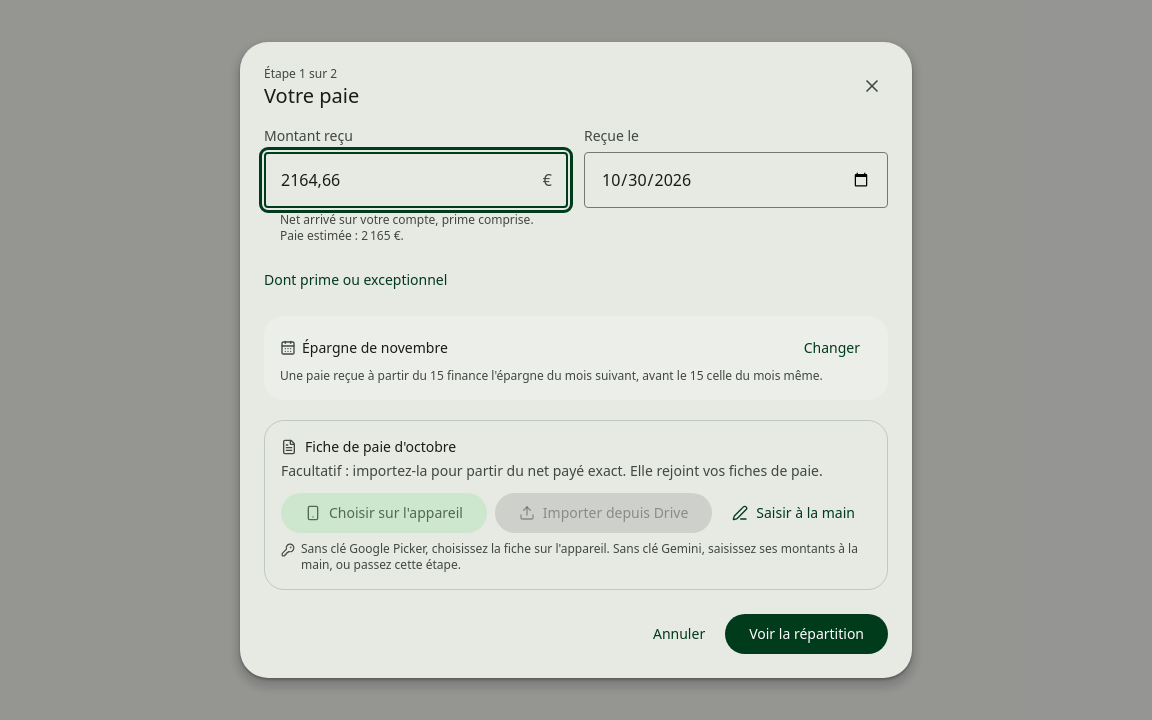
Test case: Rituel « J’ai reçu ma paie » : votre paie › montant illisible ou prime plus grande que la paie : on ne passe pas à la répartition
Replace the text in the field labelled "Montant reçu" with "12a" at (416, 180), box [264, 152, 568, 208]
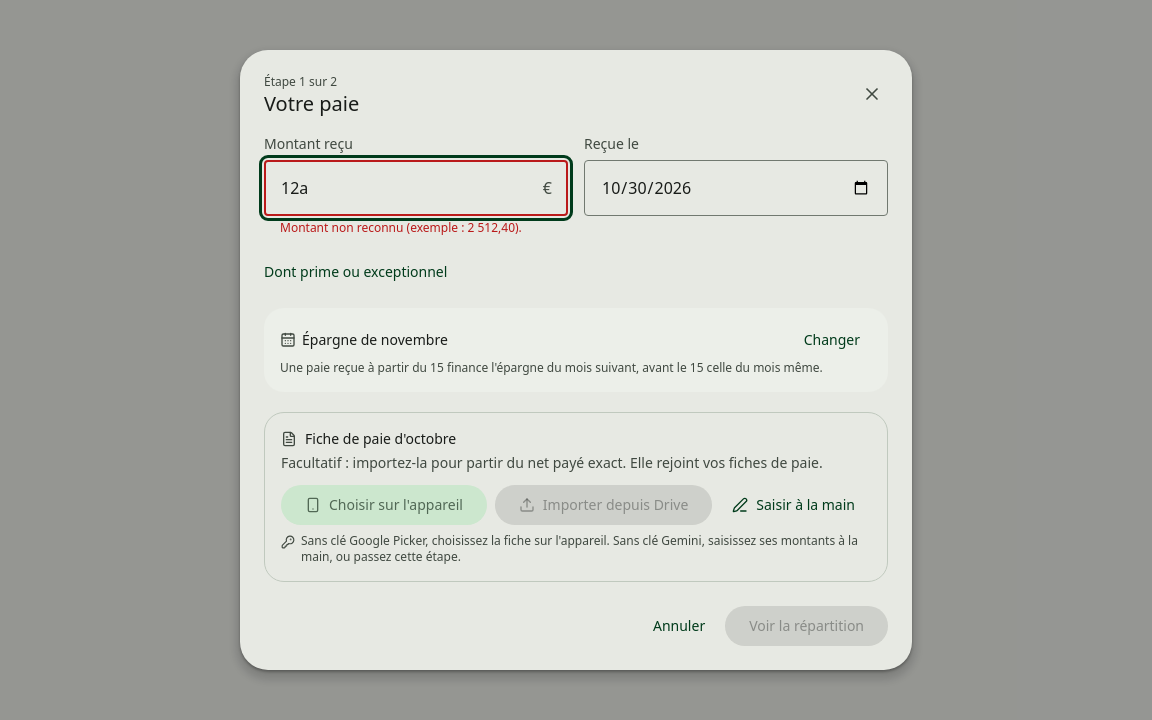
Expected: the text "Montant non reconnu (exemple : 2 512,40)." is shown, [280, 219, 522, 236]
Expected: the button "Voir la répartition" is disabled, [725, 606, 888, 646]
Replace the text in the field labelled "Montant reçu" with "2000" at (416, 188), box [264, 160, 568, 216]
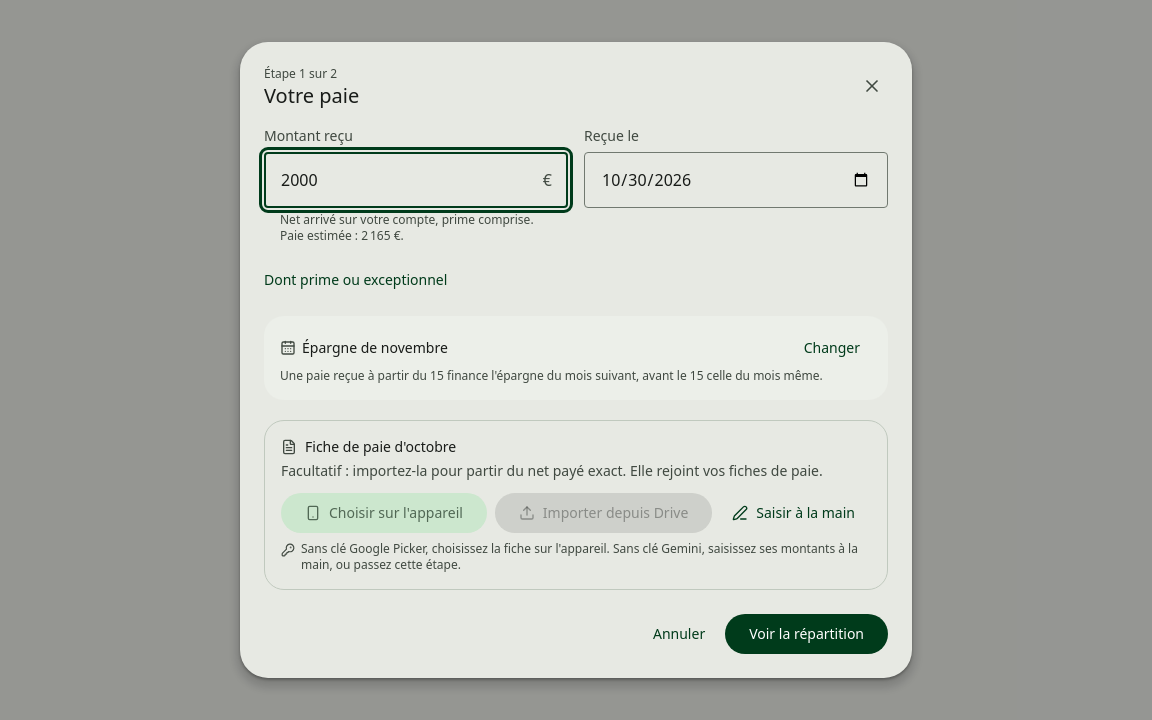
Click the button "Dont prime ou exceptionnel" at (356, 280), box [252, 264, 459, 296]
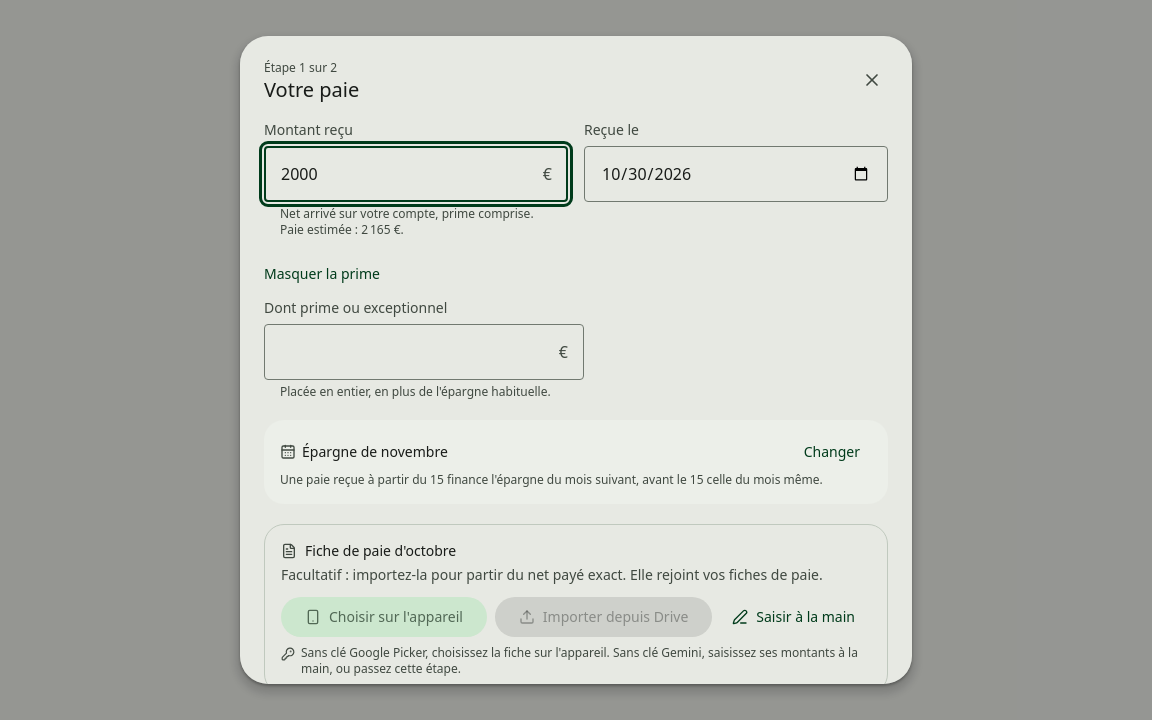
Type "2500" into the field labelled "Dont prime ou exceptionnel" at (424, 352), box [264, 324, 584, 380]
(page scrolled)
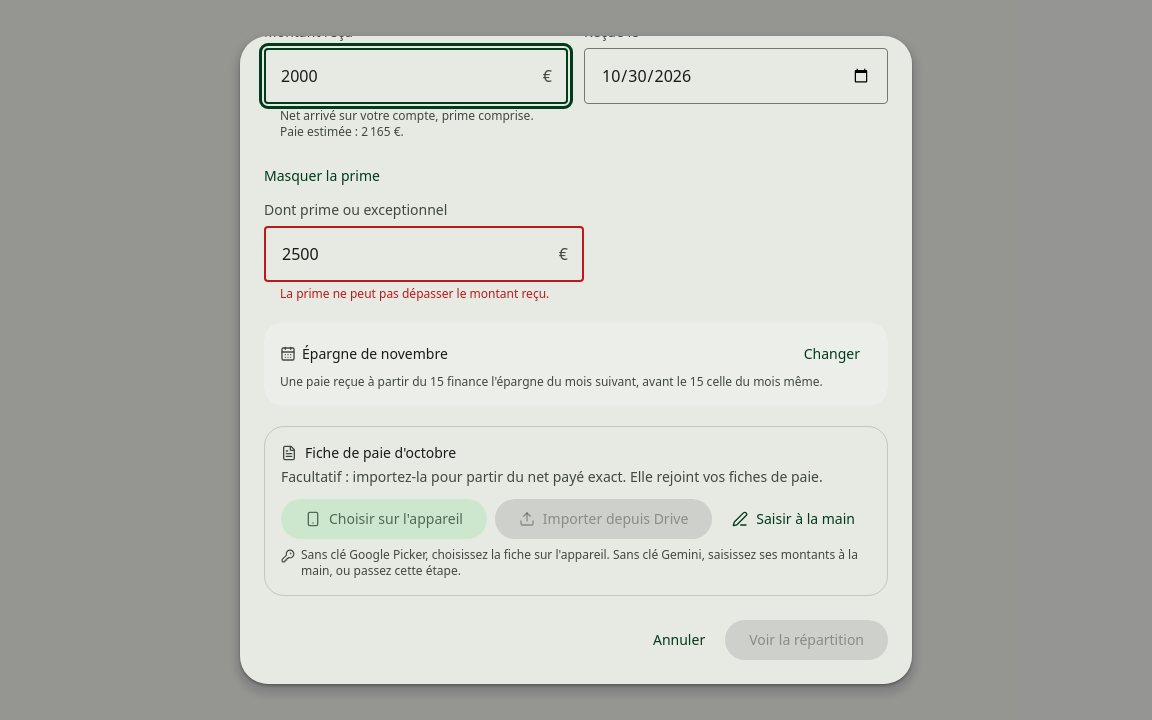
Expected: the text "La prime ne peut pas dépasser le montant reçu." is shown, [280, 285, 549, 302]
Expected: the button "Voir la répartition" is disabled, [725, 620, 888, 660]
